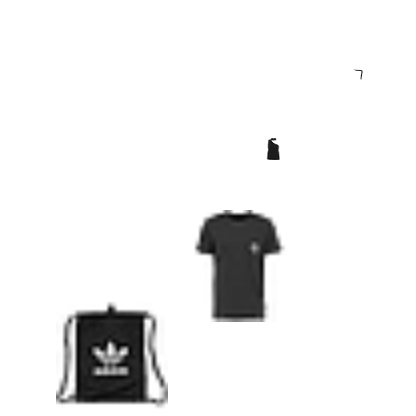7: (353, 66, 367, 80)
Bag: (56, 299, 168, 411)
Shirt: (262, 138, 284, 160)
T-shirt/top: (184, 210, 296, 322)
